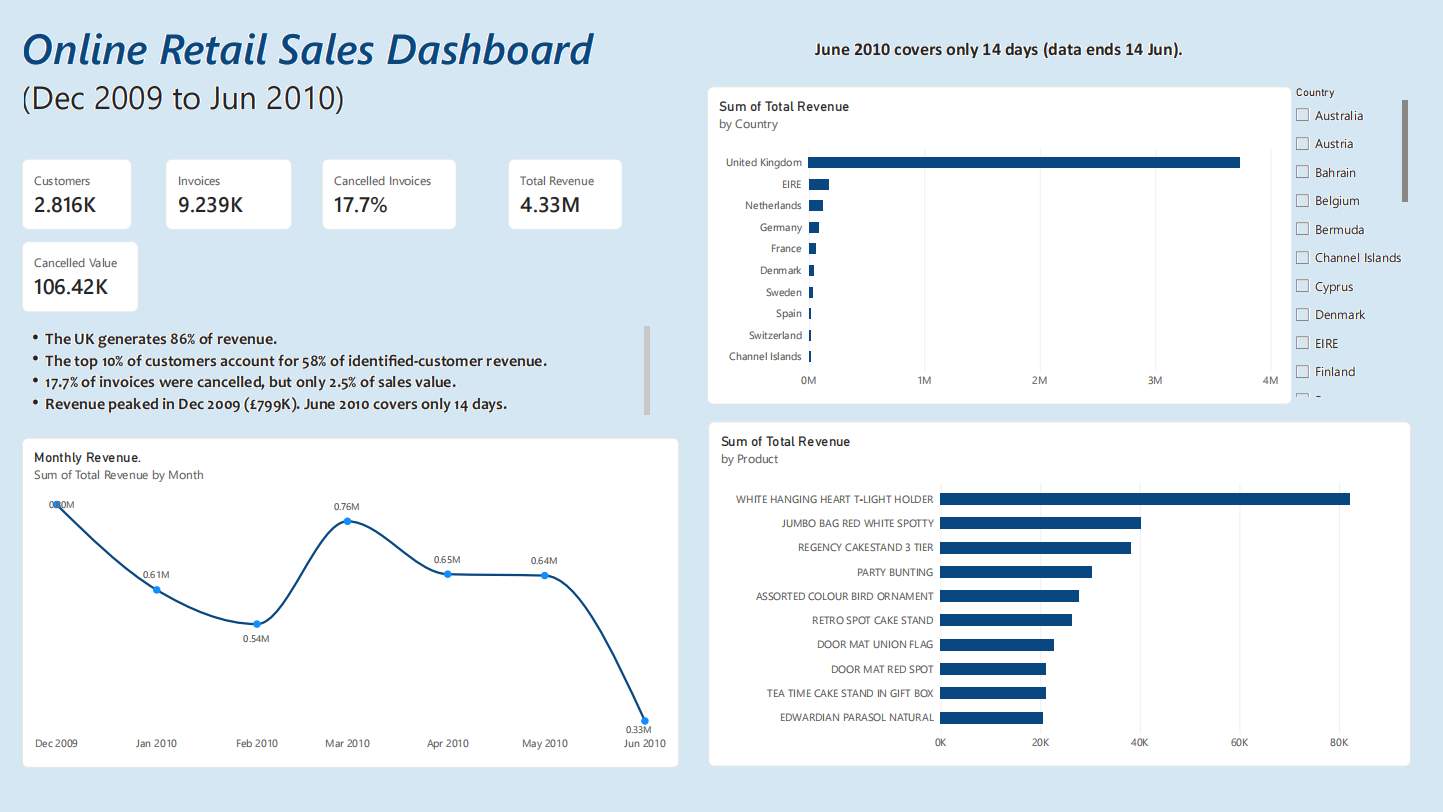

This screenshot's page, from the dashboard's own definition file:
{"tool":"powerbi","page":{"name":"Page 1","canvas":[1920,1080],"ordinal":0},"visuals":[{"type":"cardVisual","title":"Total Revenue","fields":{"Data":["Sum(sales_clean.Revenue)"]},"box":[694.2,240.7,152.3,94.7],"z":0},{"type":"lineChart","title":"Monthly Revenue.","fields":{"Category":["sales_clean.Month"],"Y":["Sum(sales_clean.Total Revenue)"]},"box":[47.1,612.2,875.6,439.5],"z":1},{"type":"barChart","fields":{"Category":["sales_clean.Product"],"Y":["Sum(sales_clean.Revenue)"]},"box":[961,589.5,936.6,460.5],"z":2},{"type":"barChart","fields":{"Category":["sales_clean.Country"],"Y":["Sum(sales_clean.Revenue)"]},"box":[959.3,143,779.7,423.8],"z":3},{"type":"slicer","fields":{"Values":["sales_clean.Country"]},"box":[1739,143,156.4,413.7],"z":4},{"type":"cardVisual","fields":{"Data":["Count(sales_clean.Customer ID)"]},"box":[47.1,240.7,146.1,94.7],"z":5},{"type":"cardVisual","fields":{"Data":["Count(sales_clean.Invoice)"]},"box":[239,240.7,168.8,94.7],"z":6},{"type":"cardVisual","fields":{"Data":["Sum(cancelled_clean.CancelledValue)"]},"box":[47.1,350.6,155.2,94.2],"z":7},{"type":"cardVisual","fields":{"Data":["sales_clean.Cancel Rate"]},"box":[446.5,240.7,179.1,94.7],"z":8},{"type":"textbox","box":[47.1,464,837.2,125.6],"z":9},{"type":"textbox","box":[47.1,54.1,798.8,150],"z":10},{"type":"textbox","box":[1105.8,78.5,539,66.3],"z":11}]}

Visuals, with their boxes in screenshot pixels (x1, y1, x2, y2), scaled from the page's 1920x1080 canvas onto the 1443x812 screenshot:
"Total Revenue" cardVisual: select_region(522, 181, 636, 252)
"Monthly Revenue." lineChart: select_region(35, 460, 693, 791)
barChart - sales_clean.Product x Sum(sales_clean.Revenue): select_region(722, 443, 1426, 789)
barChart - sales_clean.Country x Sum(sales_clean.Revenue): select_region(721, 108, 1307, 426)
slicer - sales_clean.Country: select_region(1307, 108, 1425, 419)
cardVisual - Count(sales_clean.Customer ID): select_region(35, 181, 145, 252)
cardVisual - Count(sales_clean.Invoice): select_region(180, 181, 306, 252)
cardVisual - Sum(cancelled_clean.CancelledValue): select_region(35, 264, 152, 334)
cardVisual - sales_clean.Cancel Rate: select_region(336, 181, 470, 252)
textbox: select_region(35, 349, 665, 443)
textbox: select_region(35, 41, 636, 153)
textbox: select_region(831, 59, 1236, 109)
